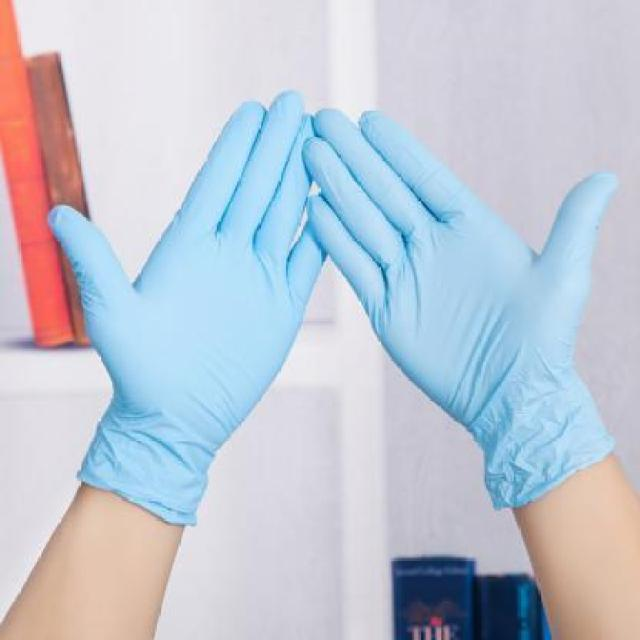hand_glove: (299, 100, 619, 438), (46, 88, 332, 446)
